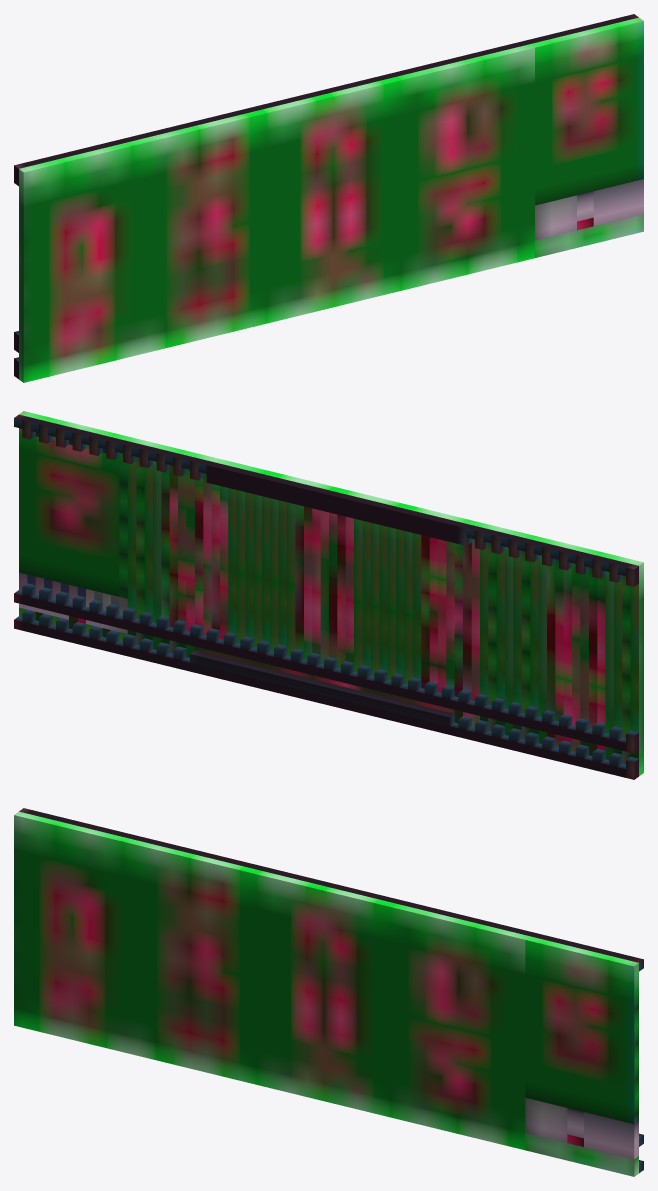
Rendered from Billboard_Drugs_A_00.fbx.
3 renders of one model, top to bottom at view 1: azimuth 30°, elevation 25°; view 2: azimuth 150°, elevation 25°; view 3: azimuth 330°, elevation 25°, orthographic.
Parts seen in each view (by area): view 1: Billboard_Drugs_A_00; view 2: Billboard_Drugs_A_00; view 3: Billboard_Drugs_A_00.
Boxes of the visible parts, x1,y1,x2,y2 form: Billboard_Drugs_A_00: (14, 14, 643, 382); Billboard_Drugs_A_00: (14, 411, 643, 779); Billboard_Drugs_A_00: (14, 808, 643, 1176).
Bounding box in the file's own units: 370 × 120 × 10.
